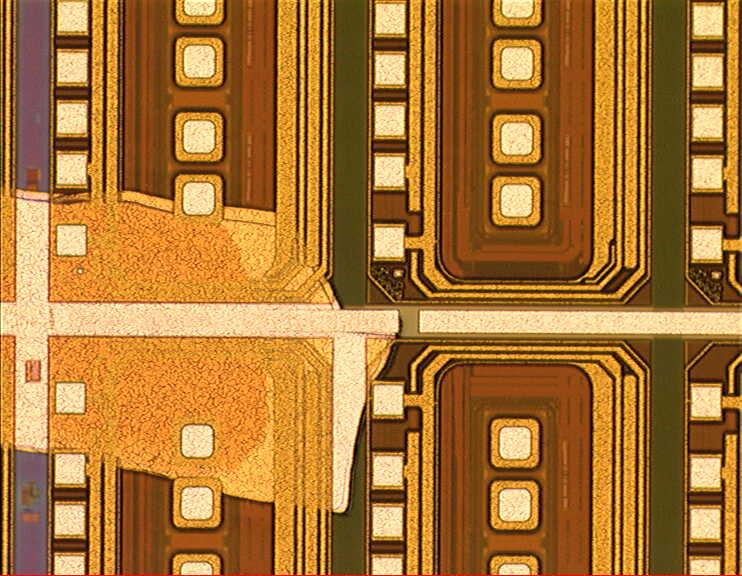BLOCK ETCH: (1, 175, 410, 528)
